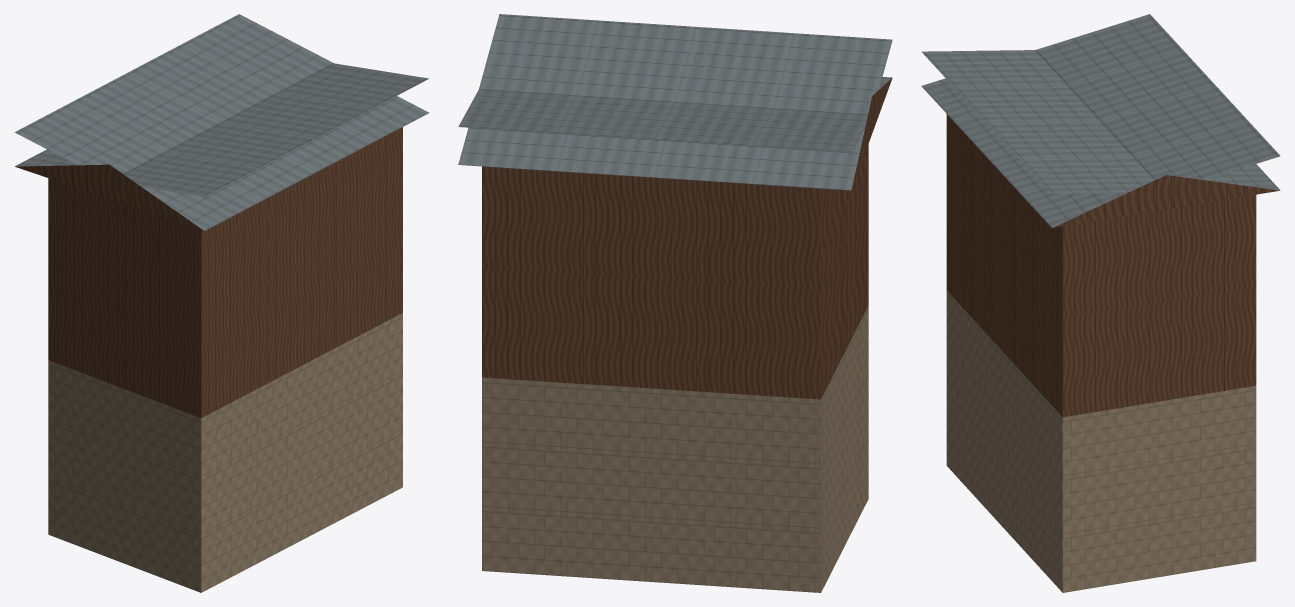
File: bld_c-10_40_511.gltf
3 views of the same model, side by side, from view 1: azimuth 30°, elevation 25°; view 2: azimuth 150°, elevation 25°; view 3: azimuth 270°, elevation 25° (orthographic). The views are drawn at different scales.
Parts seen in each view (by area): view 1: bld_c-10_40_511; view 2: bld_c-10_40_511; view 3: bld_c-10_40_511.
Part boxes in pixels (box(x1,y1,x2,y2)): bld_c-10_40_511: box(14, 14, 429, 592); bld_c-10_40_511: box(458, 14, 892, 592); bld_c-10_40_511: box(921, 14, 1280, 592).
Size of the model in its own units: 11.2 by 11.9 by 9.47.
4 materials, 4 textured.
